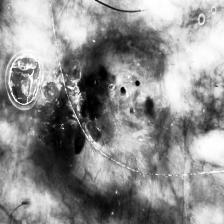Potentially Malignant Skin Tumors: (48, 92, 94, 160)
